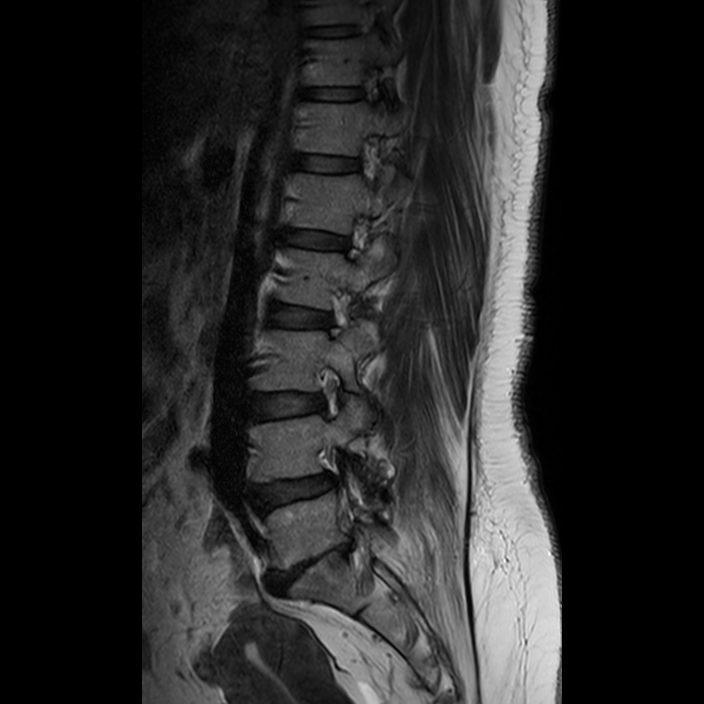RFS0: (304, 356, 356, 431), (311, 279, 364, 351), (332, 203, 382, 271)
